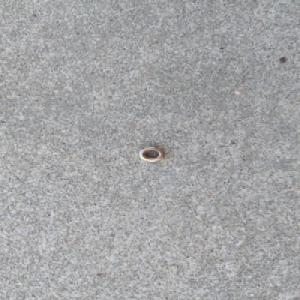Nut: (138, 146, 166, 162)
